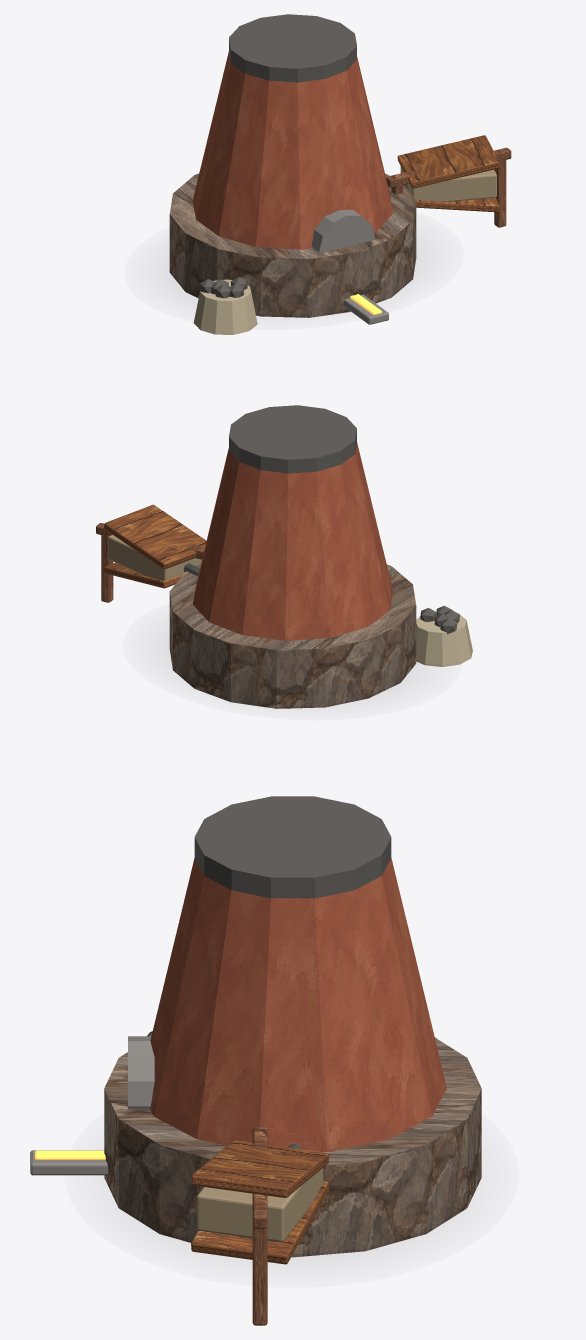
The model's file is smelter.glb.
3 views of the same model, one above another, from view 1: azimuth 30°, elevation 25°; view 2: azimuth 150°, elevation 25°; view 3: azimuth 270°, elevation 25° (orthographic). The views are drawn at different scales.
Parts seen in each view (by area): view 1: shaft, base, shaftTop, belTop, basket, mouthRing, belMid, belBot, belPost, tap, belBeam; view 2: shaft, base, shaftTop, belTop, basket, belMid, belBot, belPost; view 3: shaft, base, shaftTop, belTop, belMid, belBot, mouthRing, belPost, tap, belBeam, tapGlow.
Boxes of the visible parts, x1,y1,x2,y2 form: shaft: [192, 51, 393, 249]; base: [169, 173, 416, 317]; shaftTop: [229, 14, 356, 82]; belTop: [397, 135, 499, 188]; basket: [193, 279, 257, 334]; mouthRing: [311, 209, 375, 253]; belMid: [400, 166, 496, 201]; belBot: [416, 197, 499, 212]; belPost: [494, 159, 506, 227]; tap: [343, 294, 388, 324]; belBeam: [386, 147, 511, 187]; shaft: [192, 442, 393, 640]; base: [169, 564, 416, 708]; shaftTop: [229, 405, 356, 473]; belTop: [104, 504, 206, 569]; basket: [416, 615, 472, 666]; belMid: [108, 535, 201, 580]; belBot: [104, 562, 183, 588]; belPost: [101, 534, 113, 602]; shaft: [150, 858, 446, 1151]; base: [104, 1037, 481, 1257]; shaftTop: [194, 796, 391, 898]; belTop: [191, 1140, 329, 1197]; belMid: [197, 1168, 323, 1241]; belBot: [191, 1181, 329, 1264]; mouthRing: [128, 1036, 154, 1108]; belPost: [252, 1227, 267, 1325]; tap: [30, 1150, 107, 1175]; belBeam: [252, 1127, 267, 1228]; tapGlow: [34, 1150, 105, 1159].
Size of the model in its own units: 4.2 by 2.29 by 3.4.
14 materials, 6 textured.
